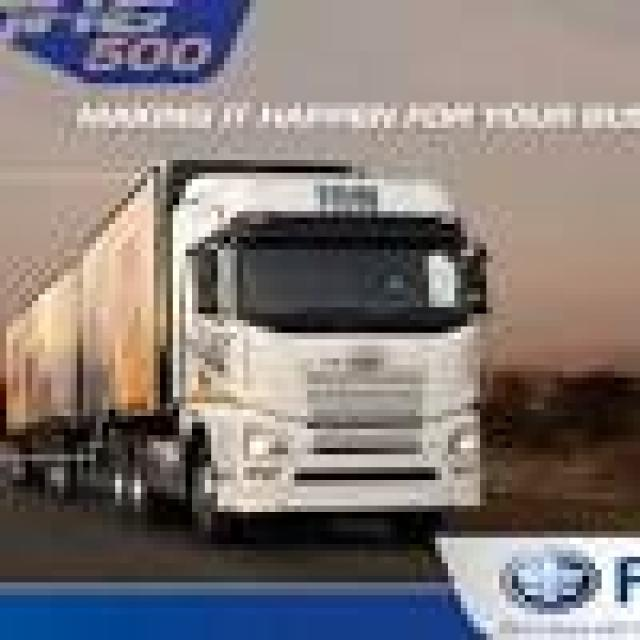Heavy Duty Truck: (7, 148, 500, 550)
